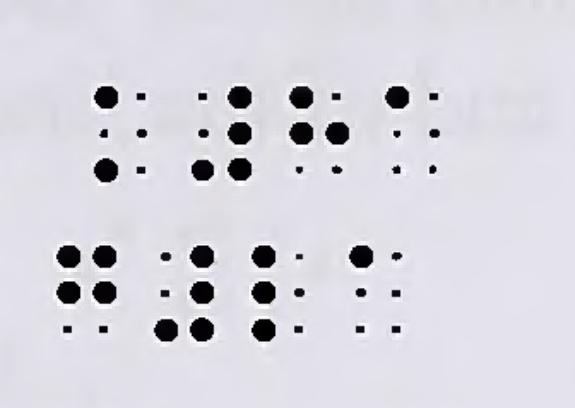a: (384, 84, 441, 178), (348, 244, 403, 333)
at: (153, 244, 216, 343), (191, 85, 252, 181)
g: (54, 244, 117, 333)
h: (288, 87, 349, 176)
k: (92, 86, 149, 183)
l: (252, 245, 305, 342)
